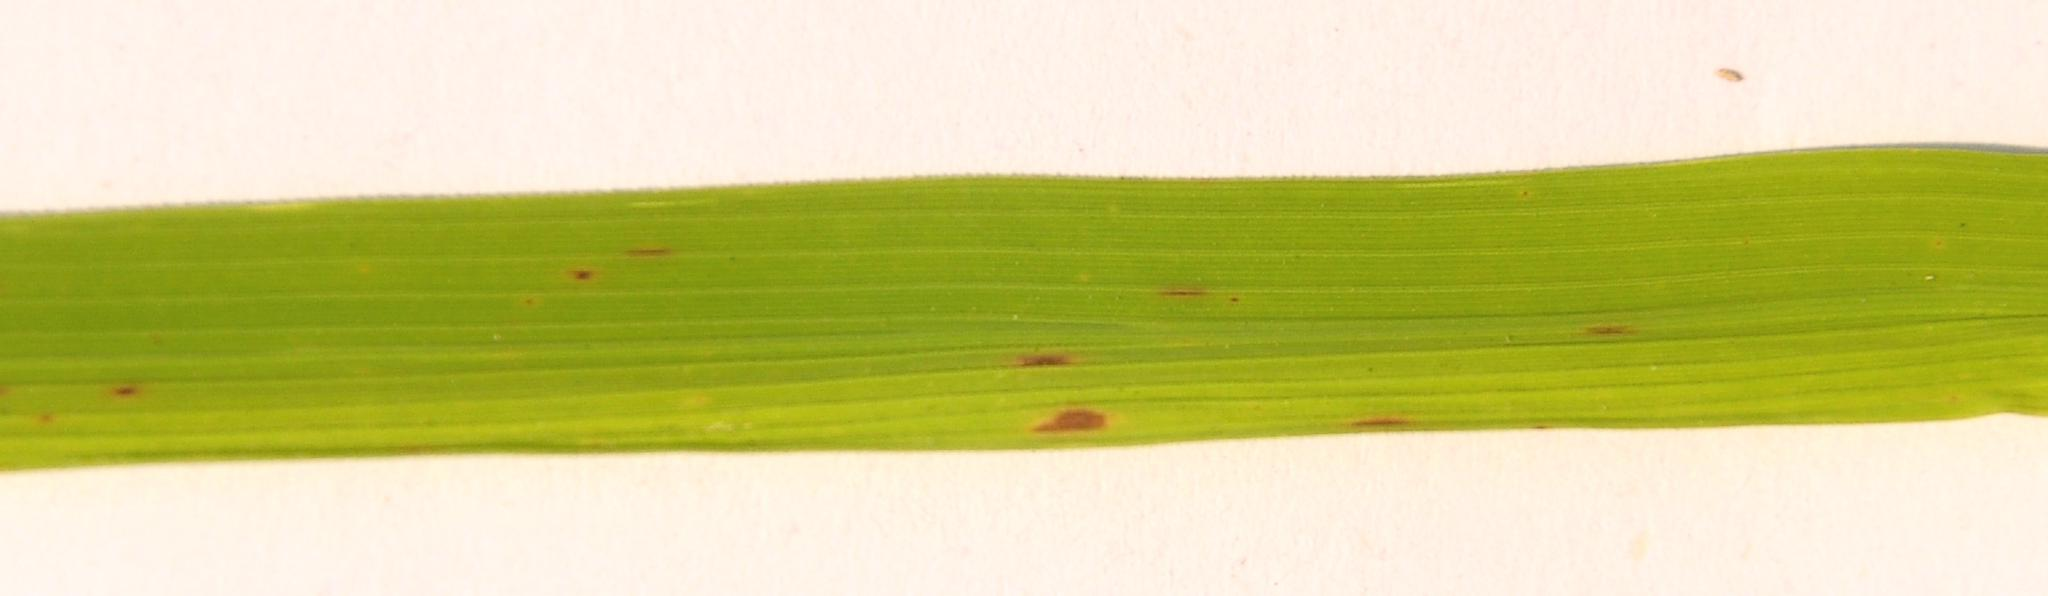0 BrownSpot: (1003, 333, 1132, 438), (78, 365, 152, 412), (616, 234, 701, 267), (1332, 412, 1429, 430), (549, 257, 597, 288)
